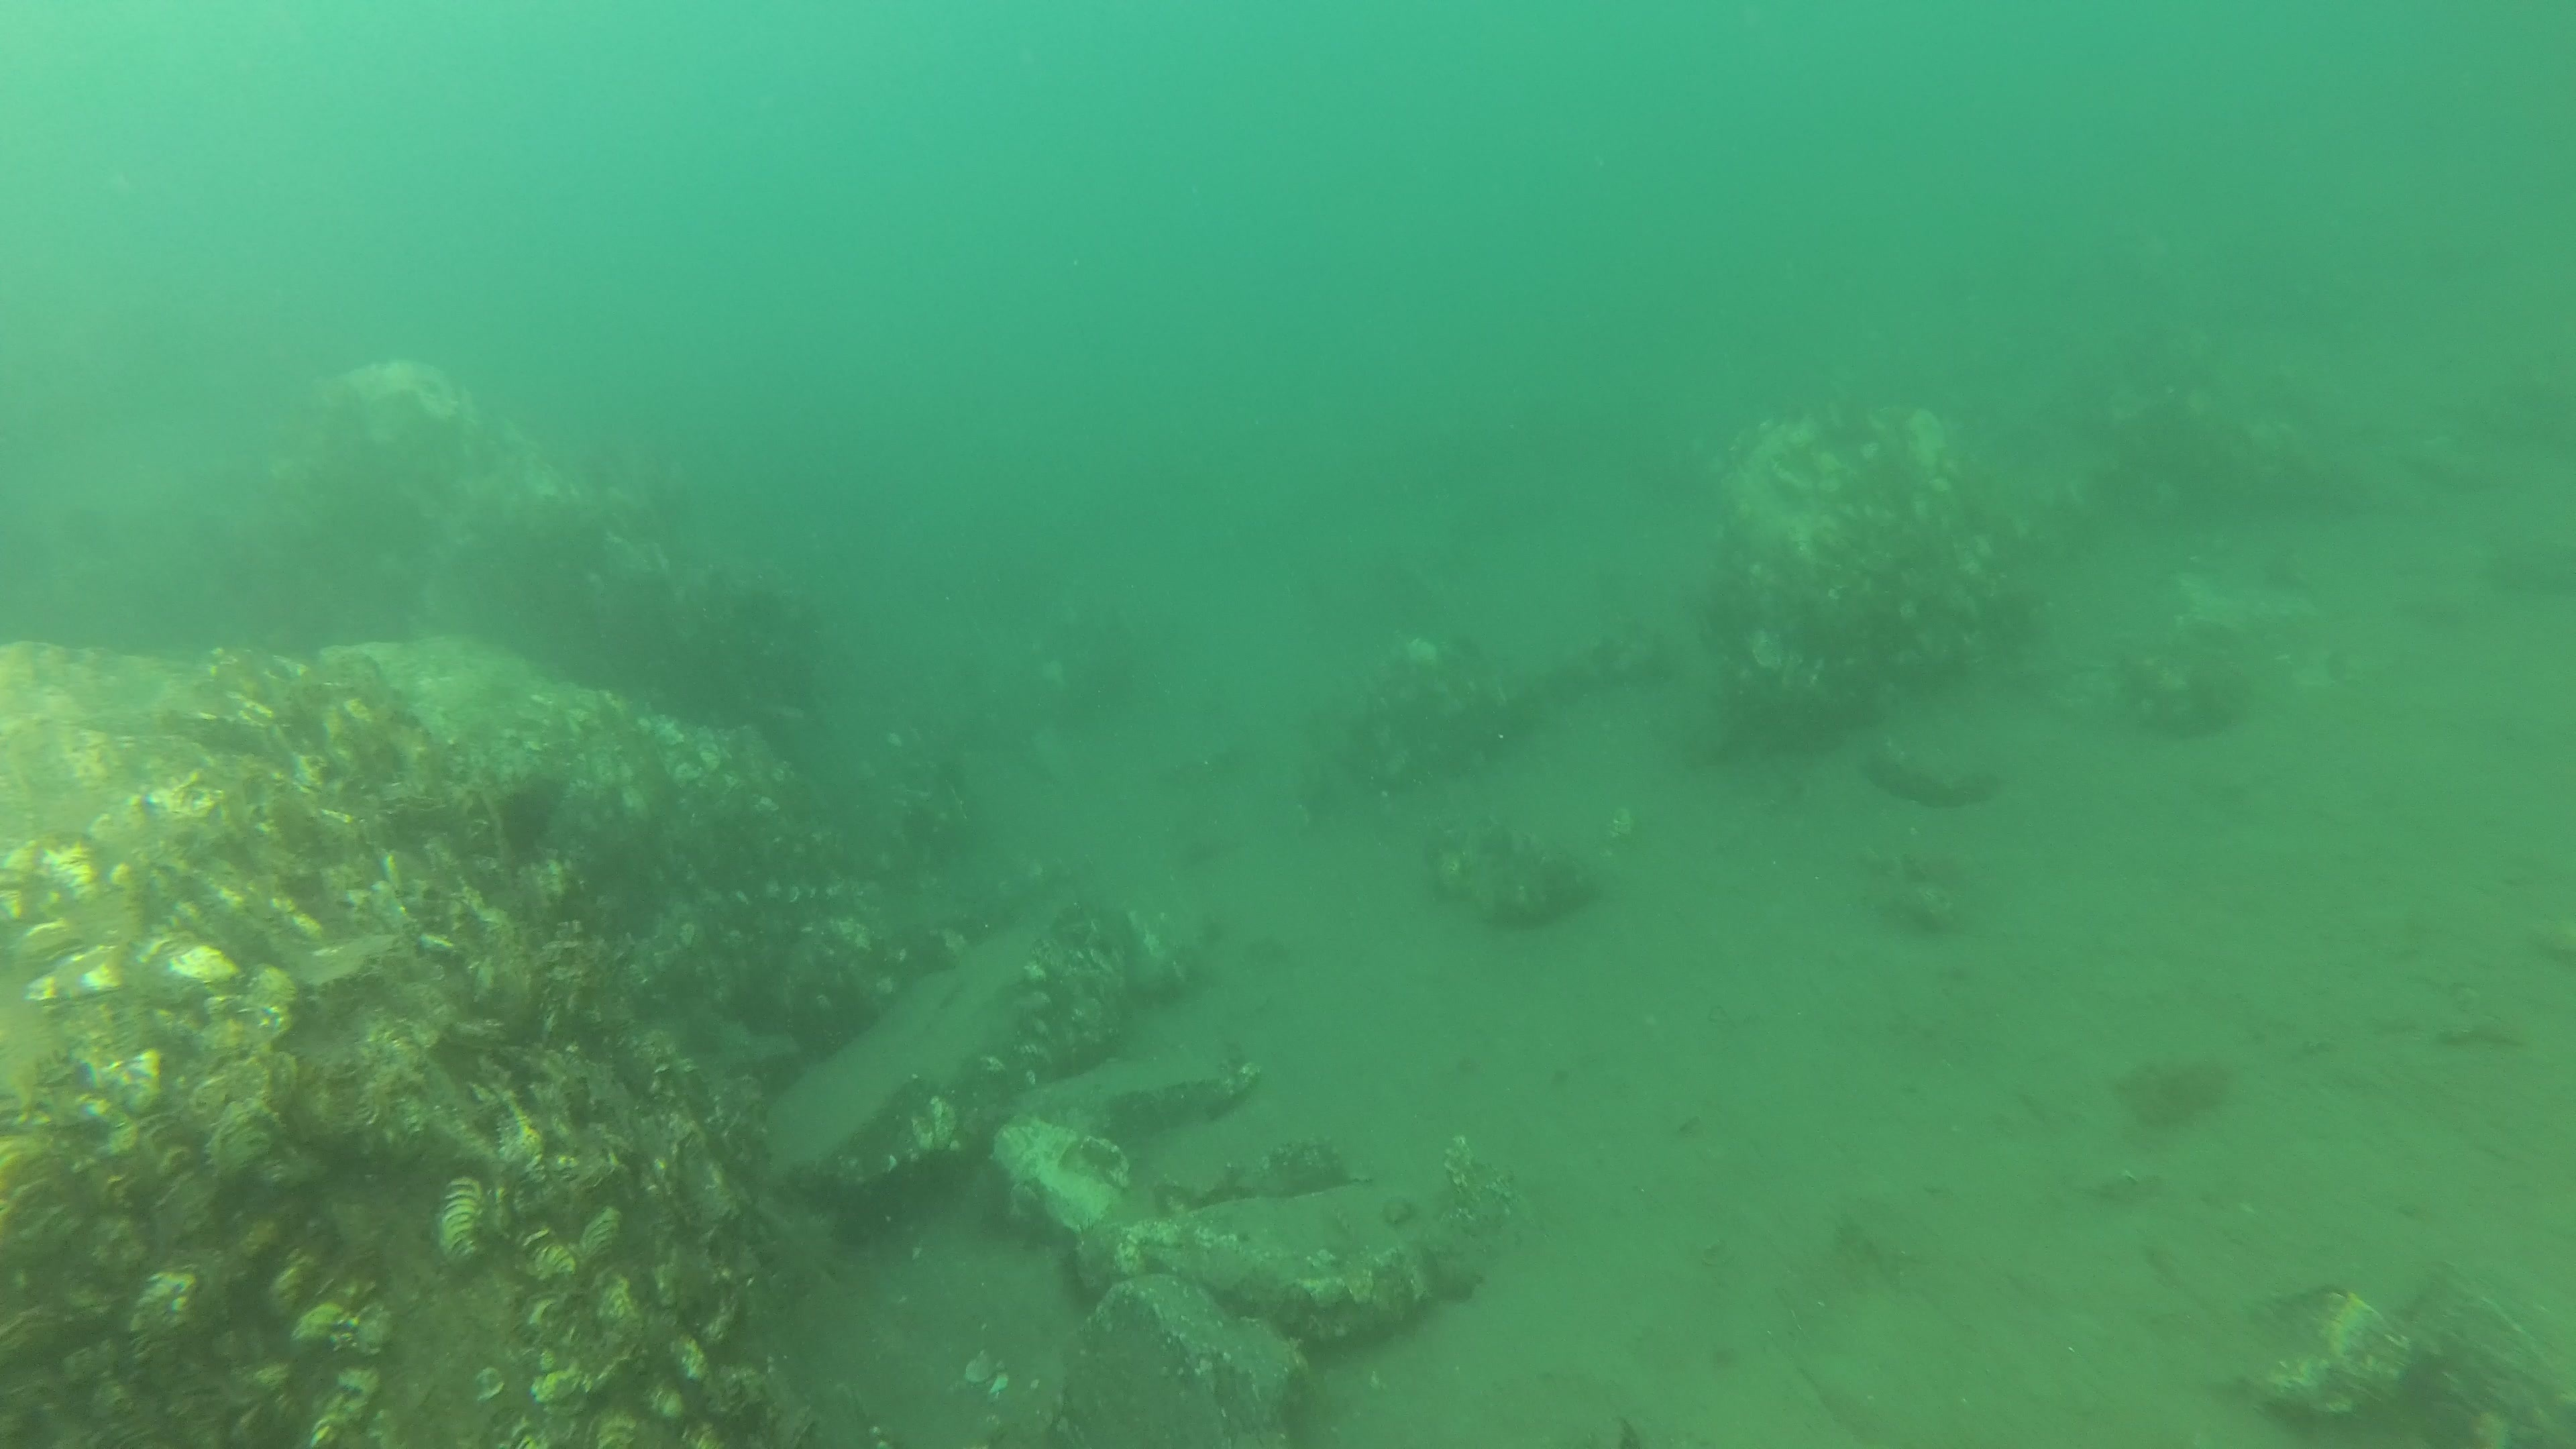echinus: (490, 777, 566, 860)
